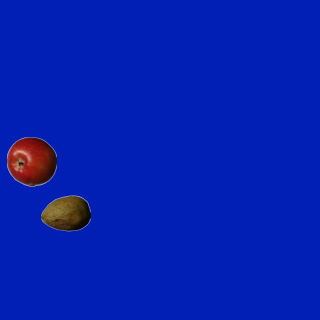Apple Braeburn: (6, 136, 56, 186)
Papaya: (40, 188, 90, 238)
